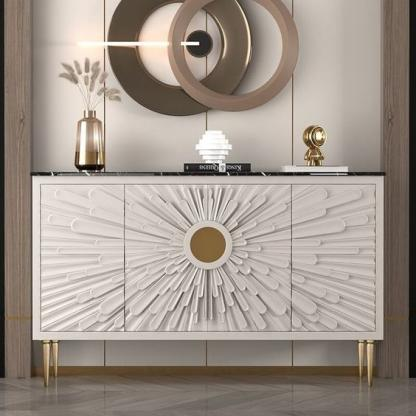Ceramic floor: (0, 374, 416, 416)
Sideboard: (32, 166, 385, 392)
